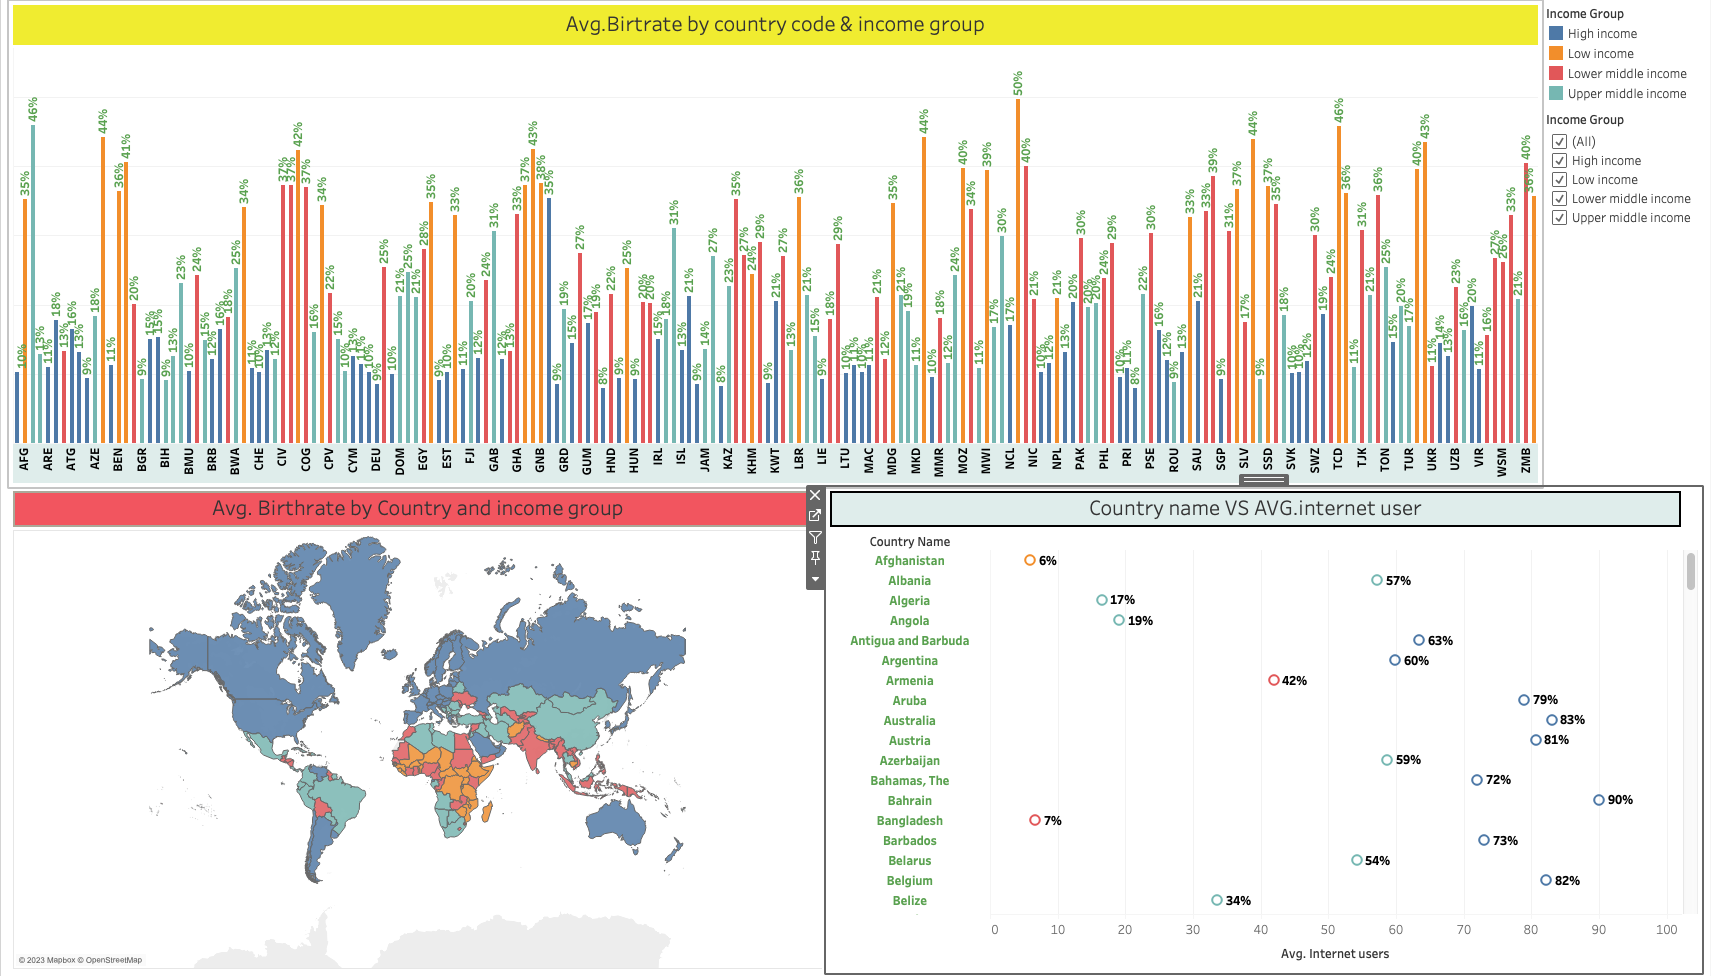

This screenshot's page, from the dashboard's own definition file:
{"tool":"tableau","page":{"name":"Dashboard 1","canvas":[1000,1000],"units":"permille","ordinal":0},"visuals":[{"type":"worksheet","title":"Avg. birthrate by country code and income group","mark":"Automatic","rows":["Birth rate"],"cols":["Country Code"],"box":[4.7,8.1,897,491.9]},{"type":"legend","title":"Avg. birthrate by country code and income group","param":"[federated.1ds4cv81tt0joi11pi53g0p0bv4z].[none:Income Group:nk]","box":[901.7,8.1,93.6,107.3]},{"type":"filter","title":"Avg. Birthrate by Country and income group","param":"[federated.1ds4cv81tt0joi11pi53g0p0bv4z].[none:Income Group:nk]","box":[901.7,115.4,93.6,128.6]},{"type":"worksheet","title":"Avg. Birthrate by Country and income group","mark":"Multipolygon","box":[4.7,500,478.4,491.9]},{"type":"worksheet","title":"Country name VS AVG.internet user","mark":"Shape","rows":["Country Name"],"cols":["Internet users"],"box":[483,500,512.3,491.9]}]}

Visuals, with their boxes on the dashboard's canvas, which has no fixed pixel size, in thousandths of its width and height (x1, y1, x2, y2). These are canvas units, not pixel positions in the 1711x976 screenshot, which may show the page scaled, cropped or inside an application window:
"Avg. birthrate by country code and income group" worksheet: [5,8,902,500]
"Avg. birthrate by country code and income group" legend: [902,8,995,115]
"Avg. Birthrate by Country and income group" filter: [902,115,995,244]
"Avg. Birthrate by Country and income group" worksheet (Multipolygon marks): [5,500,483,992]
"Country name VS AVG.internet user" worksheet (Shape marks): [483,500,995,992]
